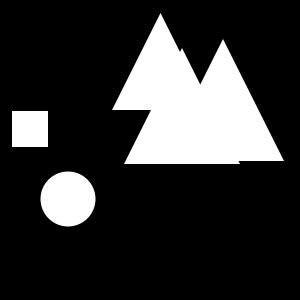circle: (12, 111, 48, 147)
rectangle: (40, 172, 95, 226)
triangle: (162, 39, 284, 161), (124, 48, 240, 164), (112, 13, 209, 110)
